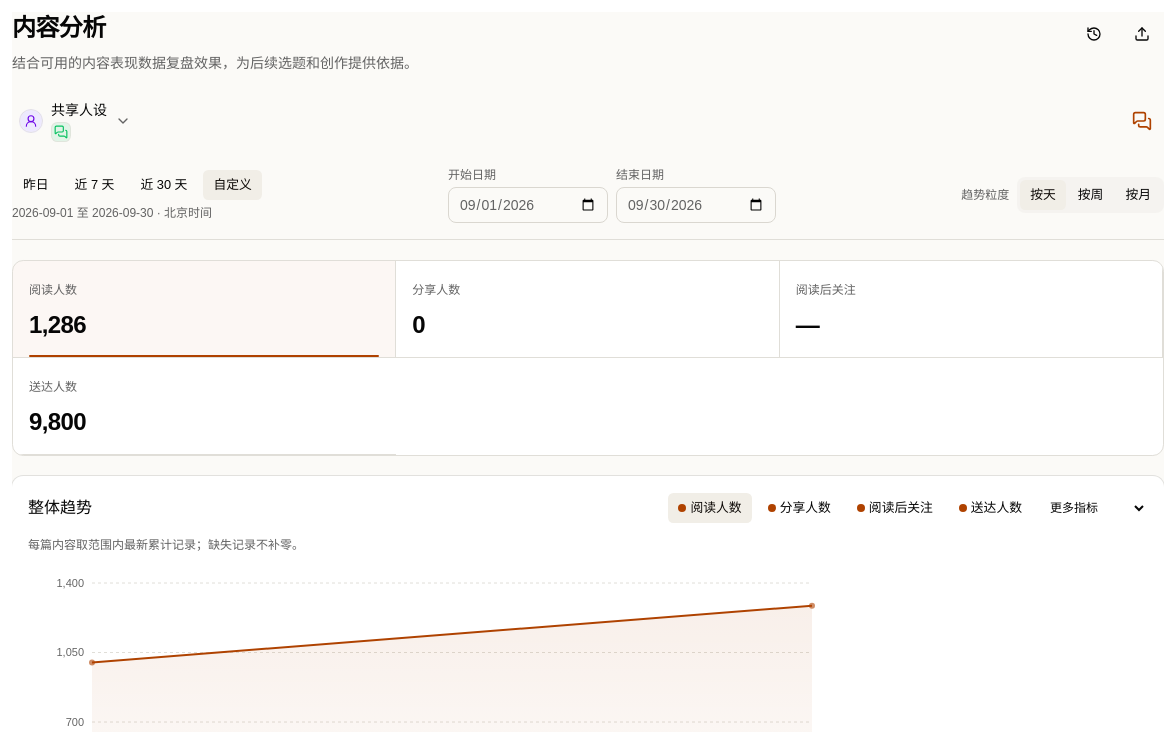
Test: persisted WeChat analytics display › preserves nonzero, zero and missing values in four summary metrics, trend details and list columns
Expected: the button named "阅读人数1,286" is shown, [13,261,396,358]
Expected: the button named "阅读后关注—" is shown, [780,261,1163,358]
Click the button named "分享人数0" at coordinates (436, 290), box [396,261,780,358]
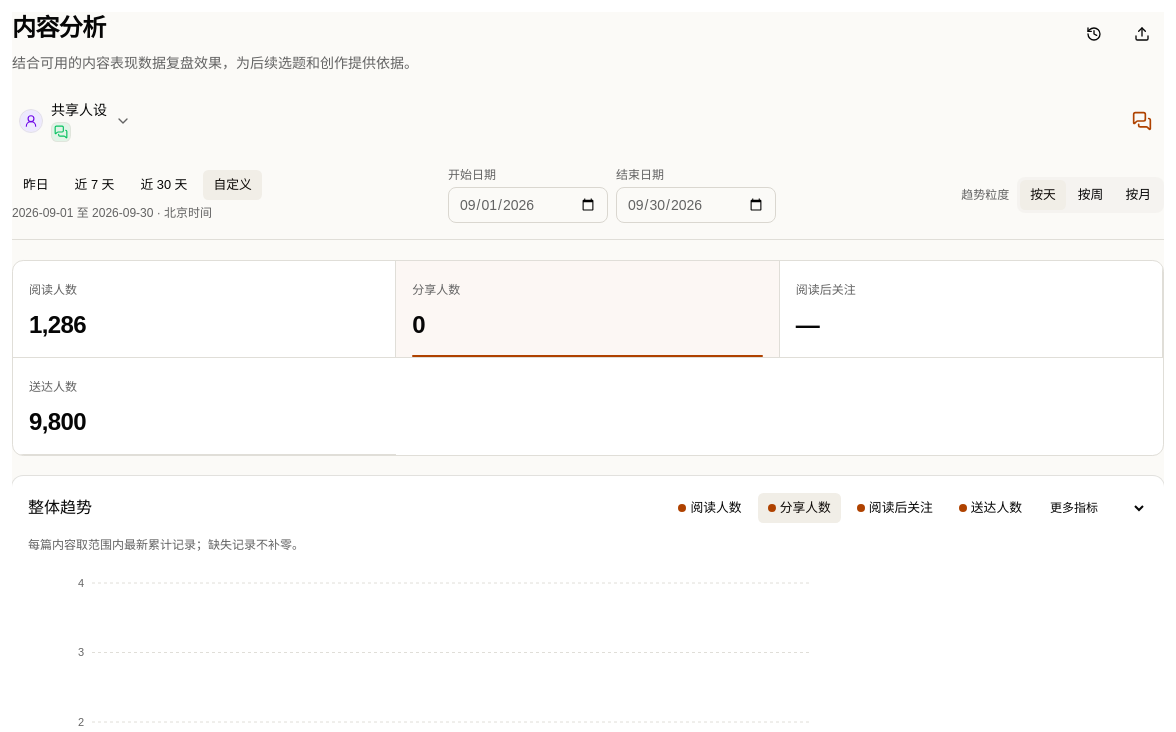
Click the button named "送达人数9,800" at coordinates (53, 387), box [13,358,396,455]
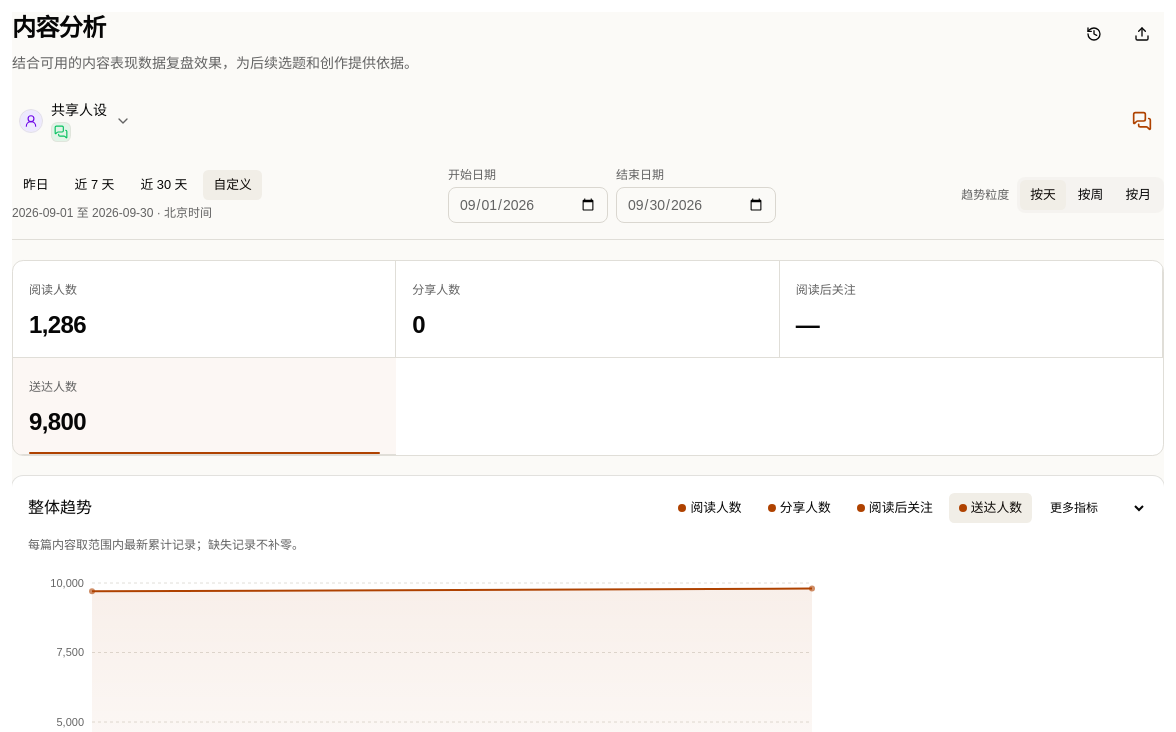
Click the button named "阅读后关注—" at coordinates (826, 290), box [780,261,1163,358]
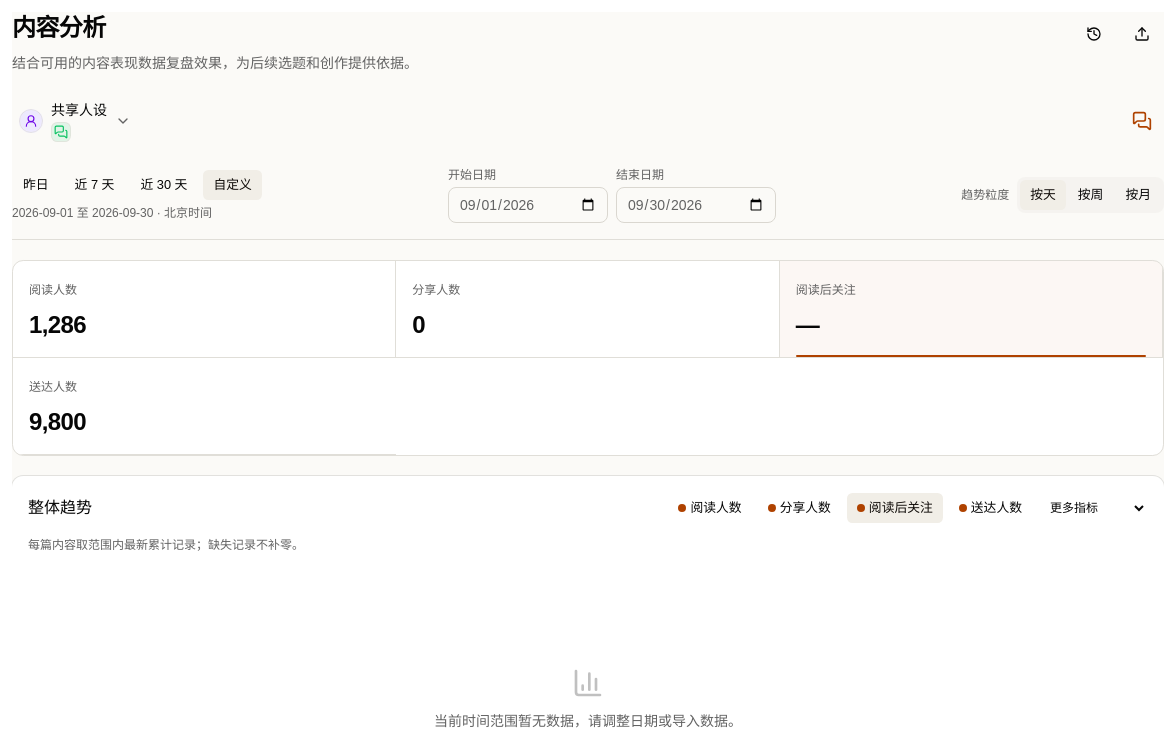
Result: the text "当前时间范围暂无数据，请调整日期或导入数据。" is shown at [434,711,742,731]
